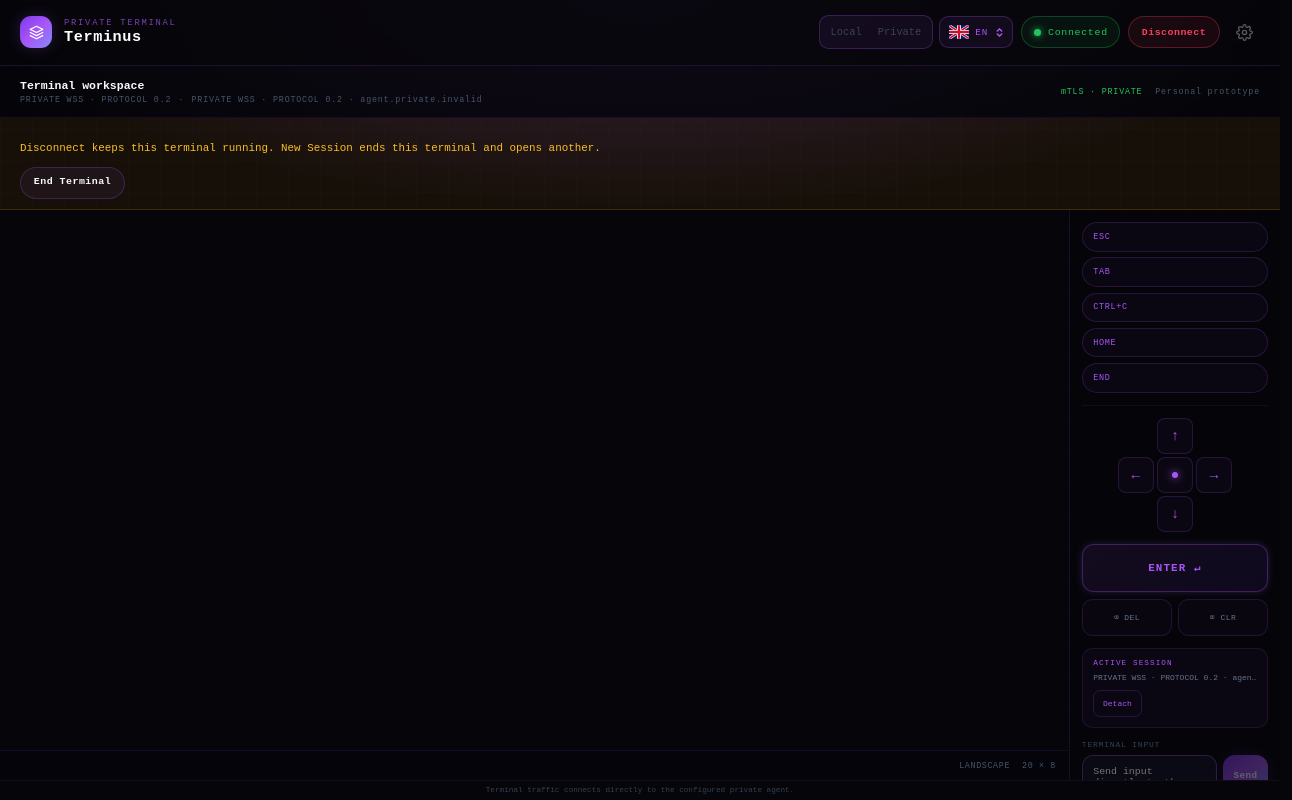
Test: TerminalShell › prevents duplicate submissions while sending and preserves Control C
Type "synthetic draft" into the text box labelled "Terminal input".
click(1149, 775); type("synthetic draft")  # box [1082,755,1217,795]
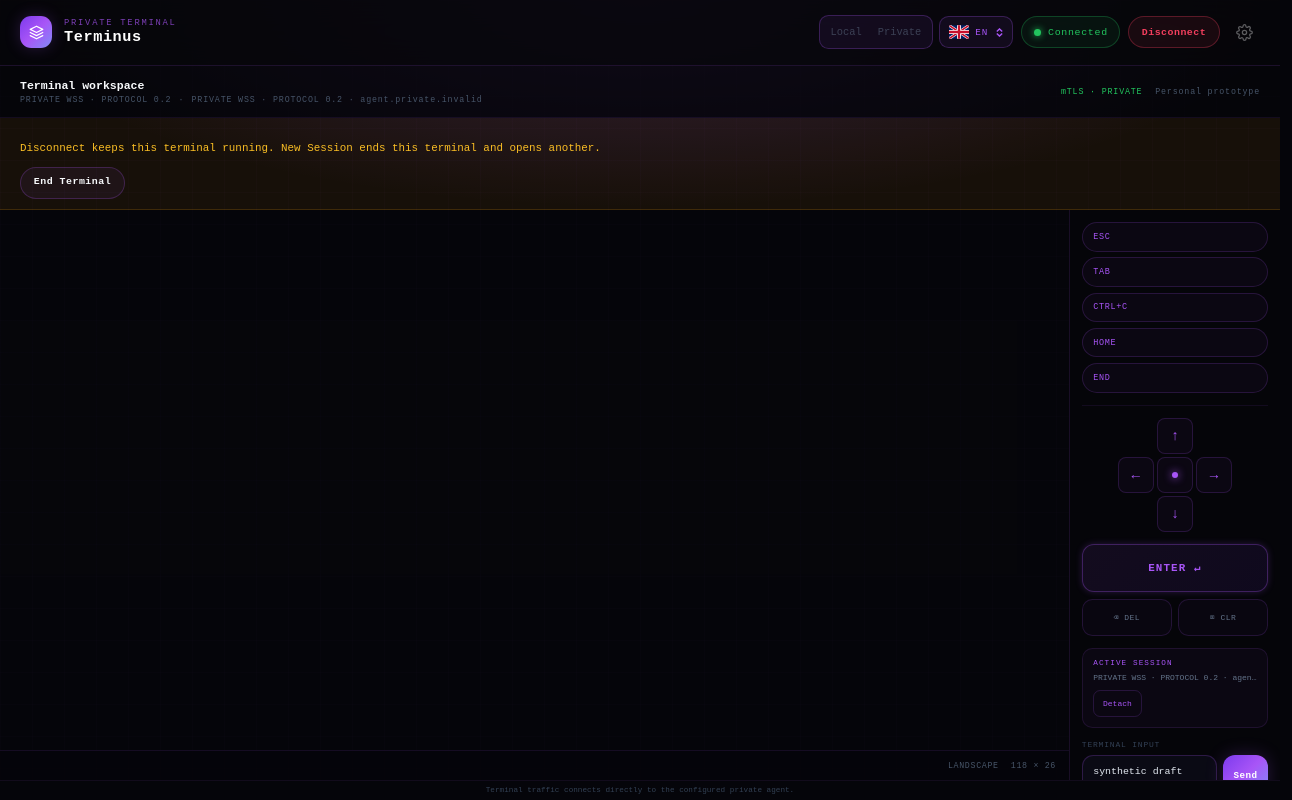
Click the button "Send".
click(1246, 775)  # box [1223,755,1268,795]
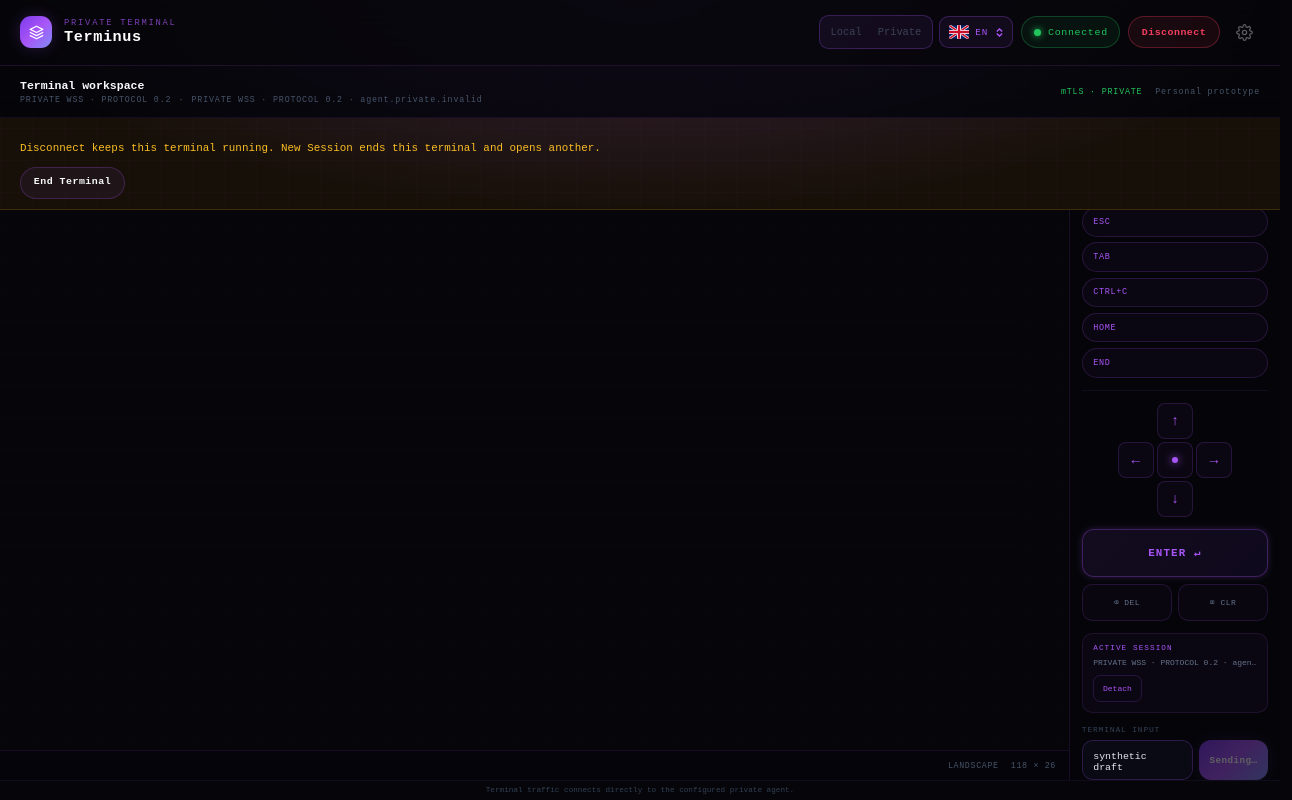
Check: the text box labelled "Terminal input" is disabled, box [1082,740,1193,780]
Check: the button "Sending…" is disabled, box [1199,740,1268,780]
Click the button with aria-label "Send Control C".
click(1175, 292)  # box [1082,278,1268,307]
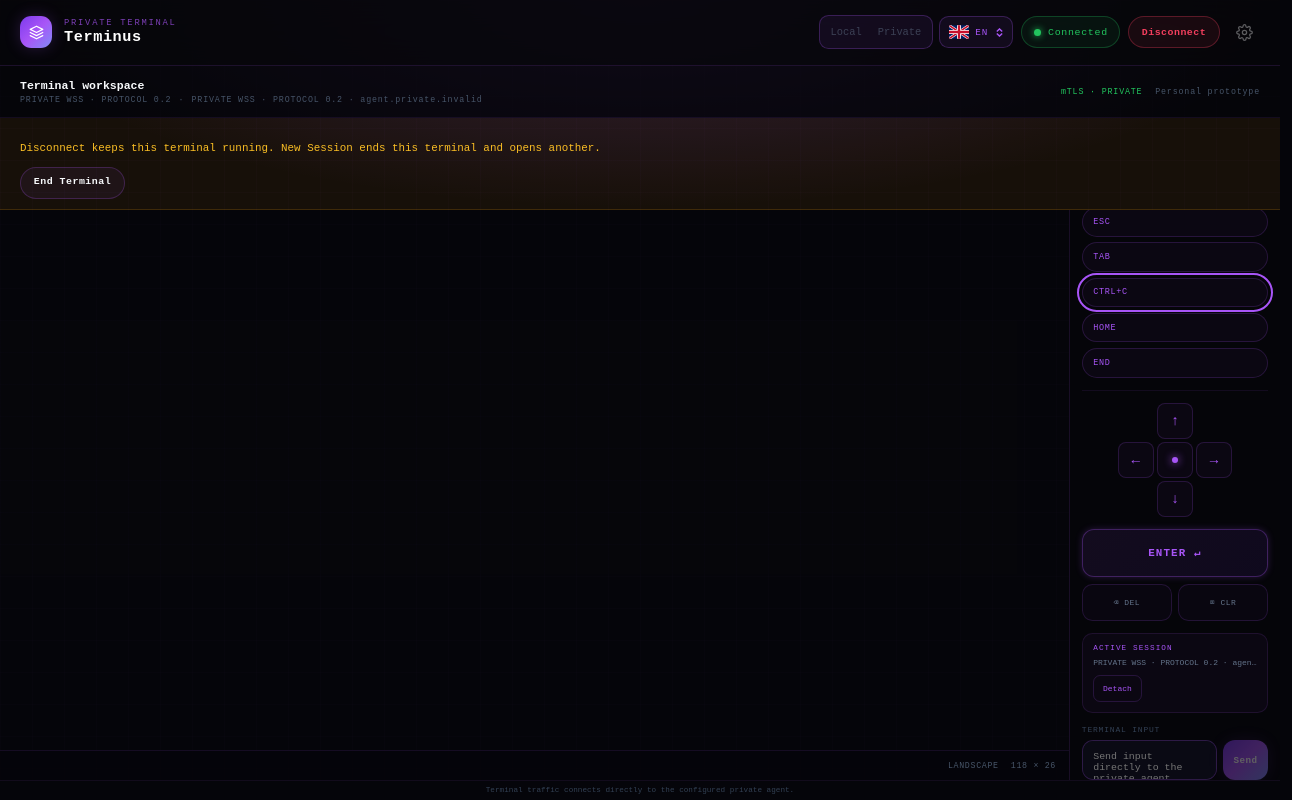
Check: the text box labelled "Terminal input" is enabled, box [1082,740,1217,780]
